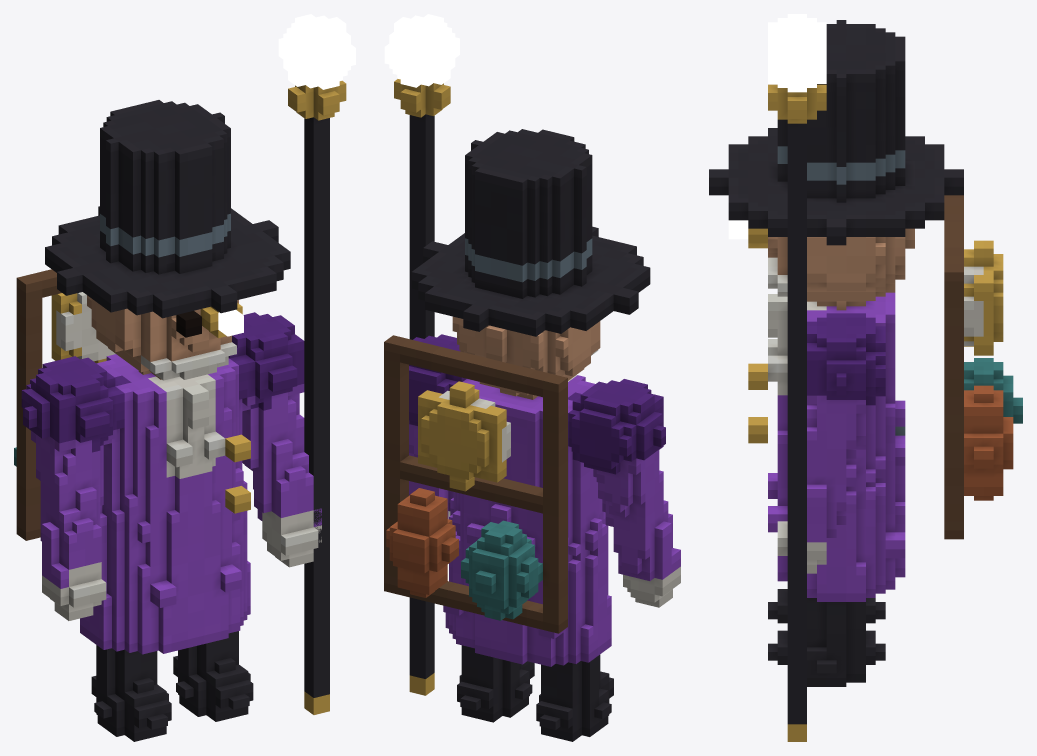
File: u_receleur__oracle.glb
3 renders of one model, left to right at view 1: azimuth 30°, elevation 25°; view 2: azimuth 150°, elevation 25°; view 3: azimuth 270°, elevation 25°, orthographic. The views are drawn at different scales.
Visible parts, largest first — view 1: receleur_body, receleur_weapon, receleur_weaponglow, receleur_glow; view 2: receleur_body, receleur_weapon, receleur_weaponglow; view 3: receleur_body, receleur_weapon, receleur_weaponglow.
Boxes of the visible parts, bbox=[...] form: receleur_body: bbox=[14, 100, 321, 741]; receleur_weapon: bbox=[288, 80, 346, 714]; receleur_weaponglow: bbox=[278, 14, 355, 89]; receleur_glow: bbox=[218, 309, 243, 336]; receleur_body: bbox=[384, 129, 680, 741]; receleur_weapon: bbox=[394, 79, 450, 695]; receleur_weaponglow: bbox=[384, 14, 459, 87]; receleur_body: bbox=[709, 20, 1022, 686]; receleur_weapon: bbox=[768, 84, 826, 741]; receleur_weaponglow: bbox=[768, 14, 826, 92].
Size of the model in its own units: 0.9 by 2 by 0.8.
